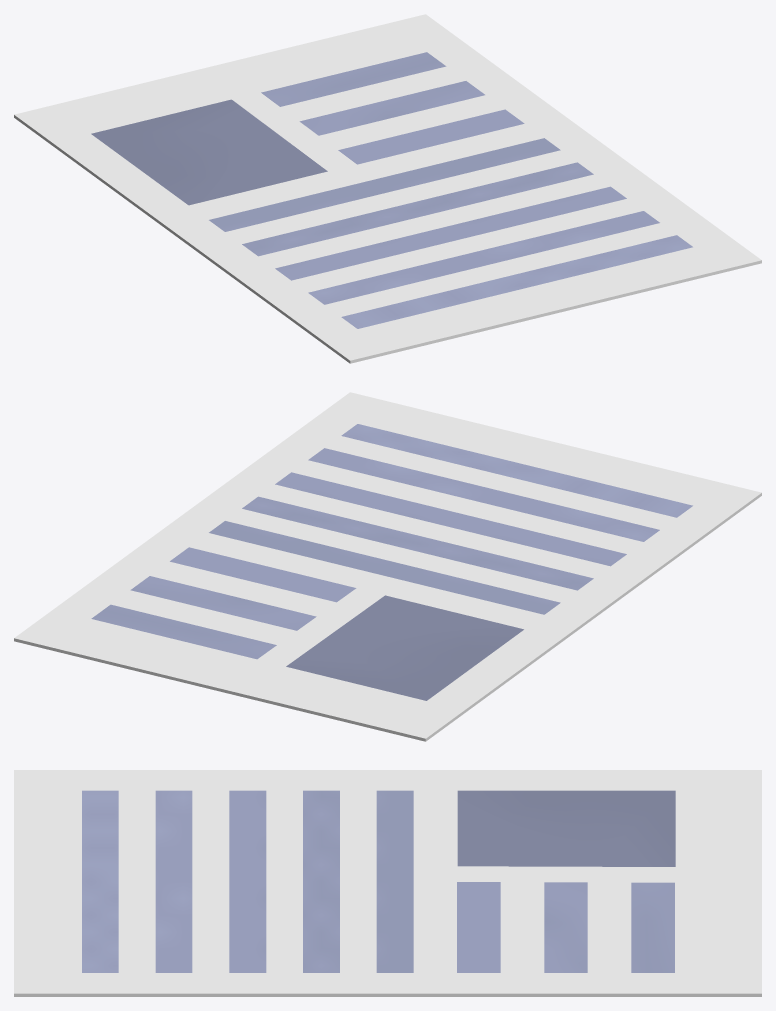
Rendered from papersheet-3.fbx.
The picture shows the model from 3 angles, top to bottom: view 1: azimuth 30°, elevation 25°; view 2: azimuth 150°, elevation 25°; view 3: azimuth 270°, elevation 25°; orthographic projection. The views are drawn at different scales.
Parts seen in each view (by area): view 1: papersheet-3; view 2: papersheet-3; view 3: papersheet-3.
Boxes of the visible parts, x1,y1,x2,y2 form: papersheet-3: [14, 14, 761, 363]; papersheet-3: [14, 392, 761, 741]; papersheet-3: [14, 770, 761, 996].
Bounding box in the file's own units: 0.2191 × 0.3098 × 0.00155.
